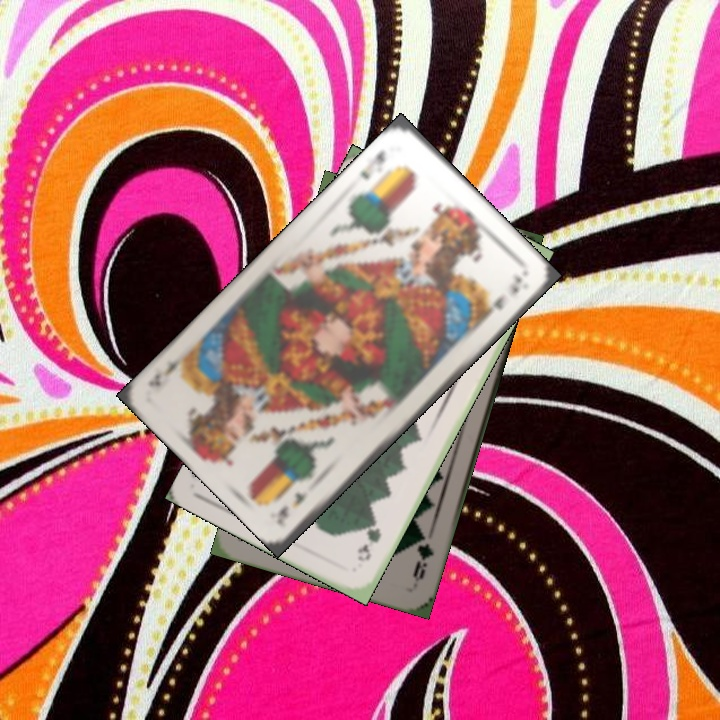EK: (355, 146, 389, 183), (273, 487, 309, 521)
G9: (409, 528, 437, 584), (353, 516, 384, 565)
